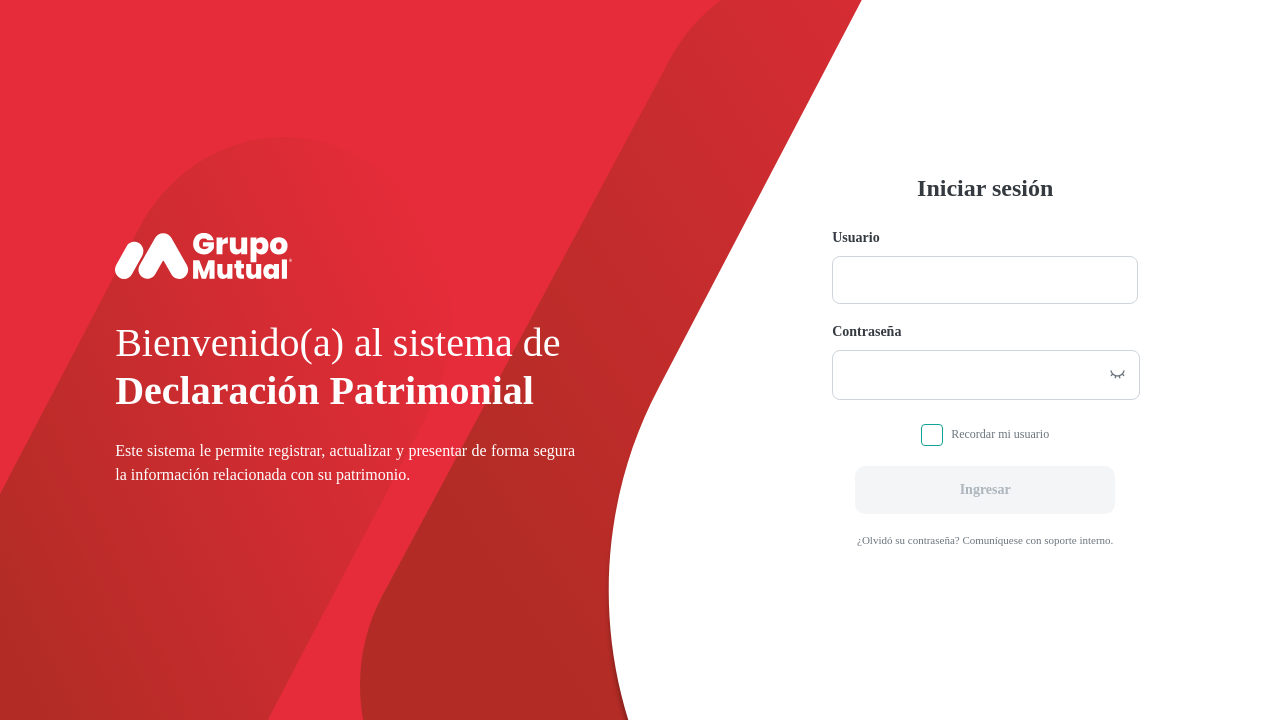
Test: Login › enables submit only while both fields contain text
This screenshot has width=1280, height=720.
Check: the button "Ingresar" is disabled, box x1=855 y1=466 x2=1115 y2=514
Type "ab" into the field labelled "Usuario". click: (985, 280)
box: x1=832 y1=256 x2=1138 y2=304
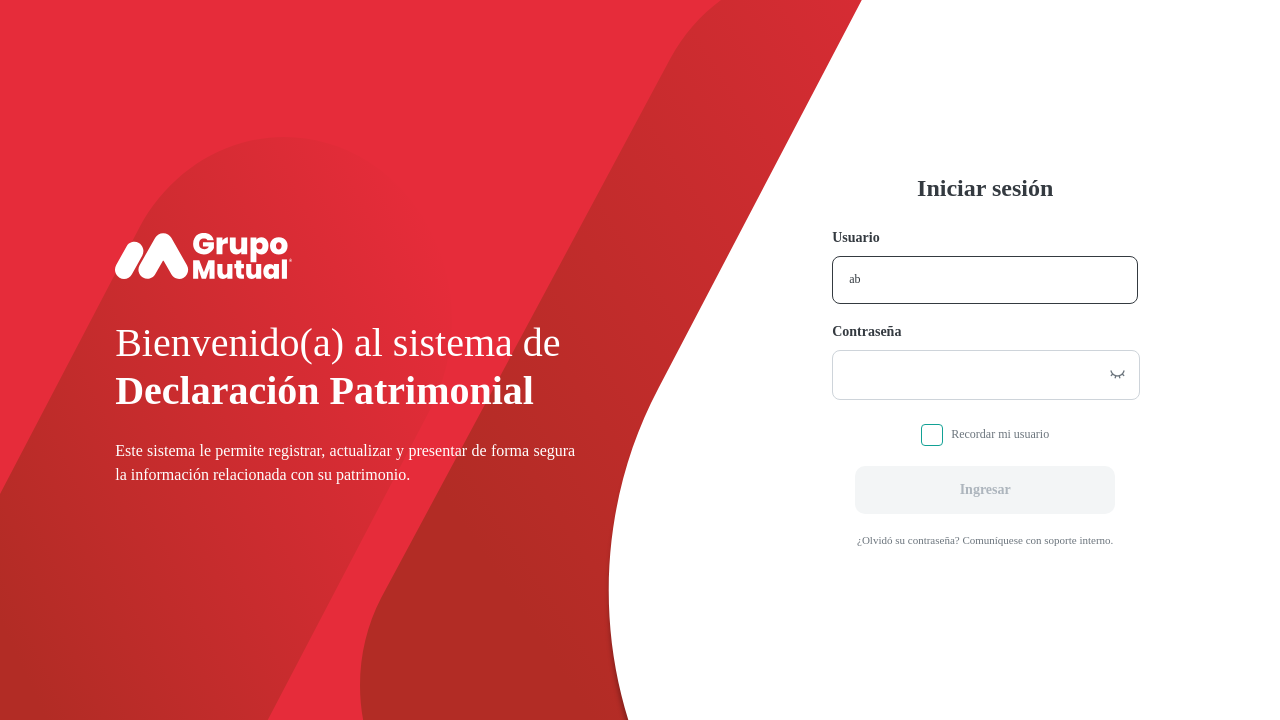
Check: the button "Ingresar" is disabled, box x1=855 y1=466 x2=1115 y2=514
Type "x" into the password field labelled "Contraseña". click: (965, 374)
box: x1=833 y1=350 x2=1096 y2=398
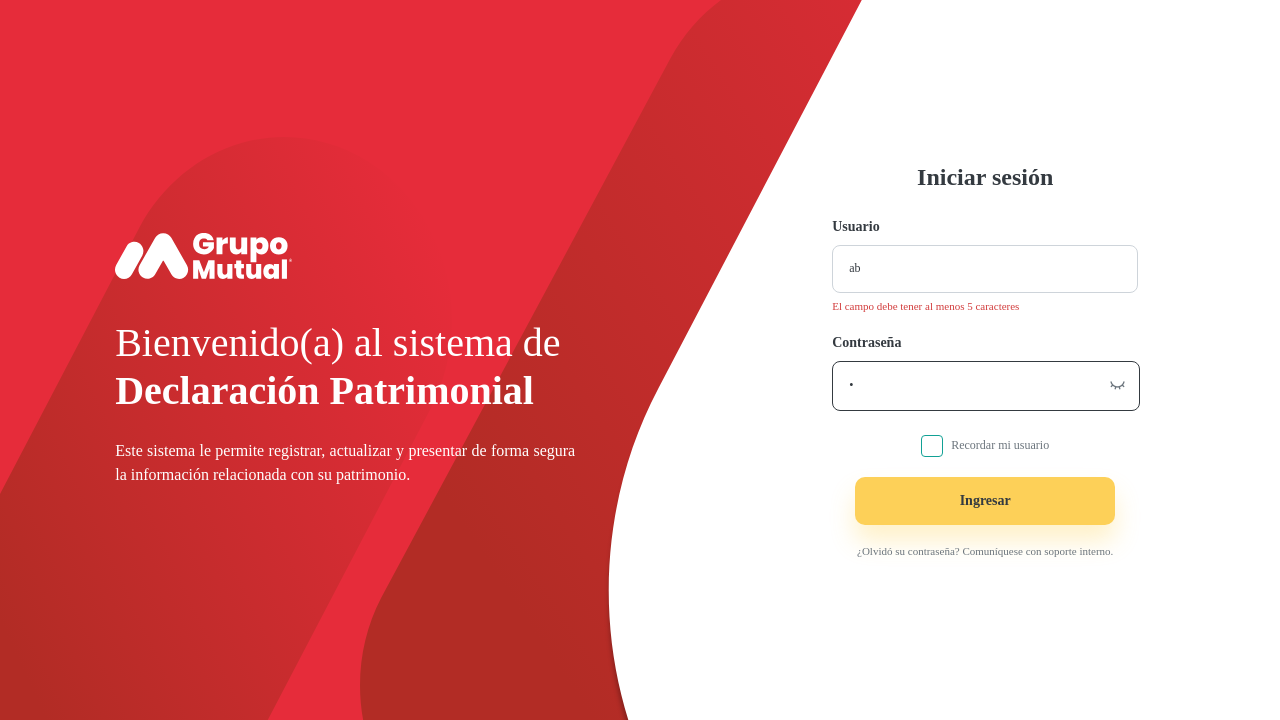
Check: the button "Ingresar" is enabled, box x1=855 y1=476 x2=1115 y2=524
Clear the field labelled "Usuario". click: (985, 268)
box: x1=832 y1=244 x2=1138 y2=292
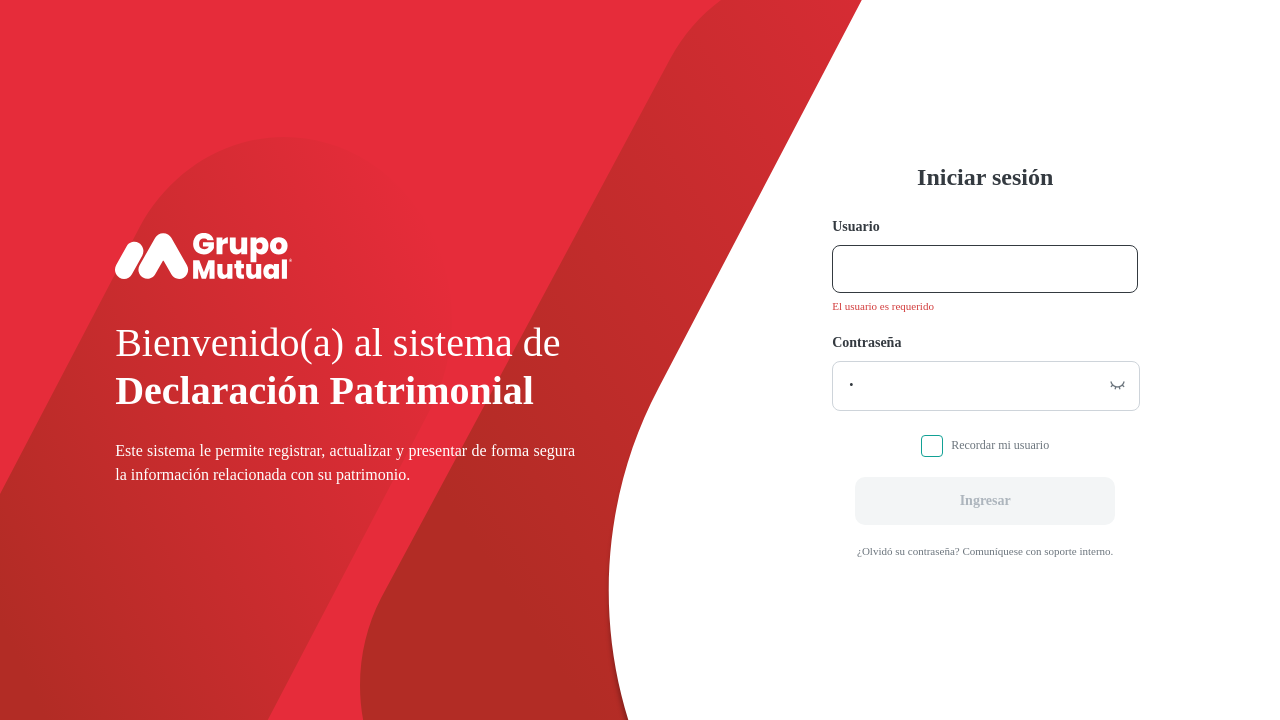
Check: the button "Ingresar" is disabled, box x1=855 y1=476 x2=1115 y2=524
